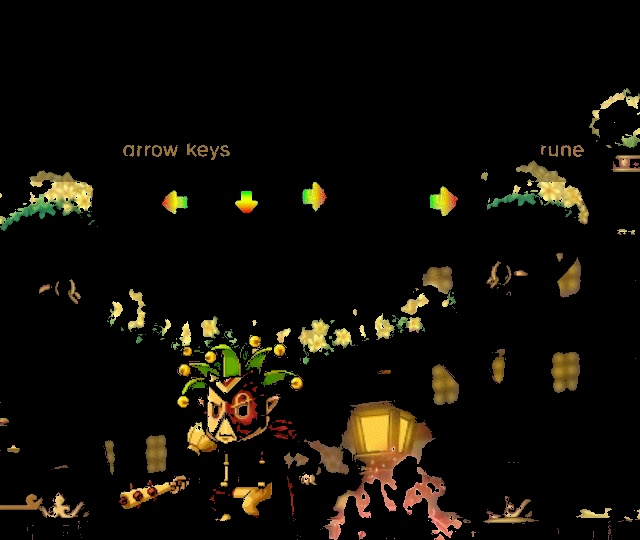down: (226, 186, 266, 224)
left: (151, 182, 194, 224)
right: (421, 181, 463, 222), (298, 177, 335, 219)
